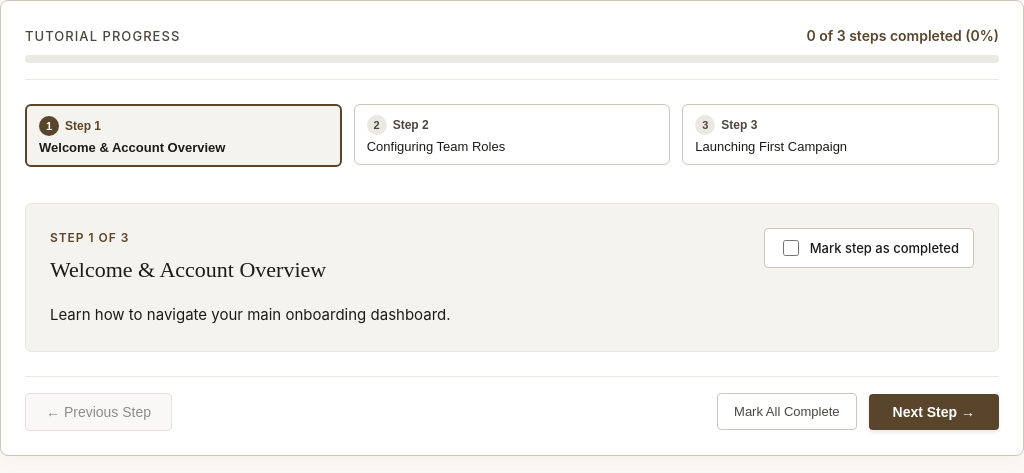
Test: TutorialStepper Component › allows direct step jumping when allowJumpToStep is true
This screenshot has width=1024, height=473.
Click the tab with test id "step-nav-item-2".
click(771, 147)  # box [682, 104, 999, 165]
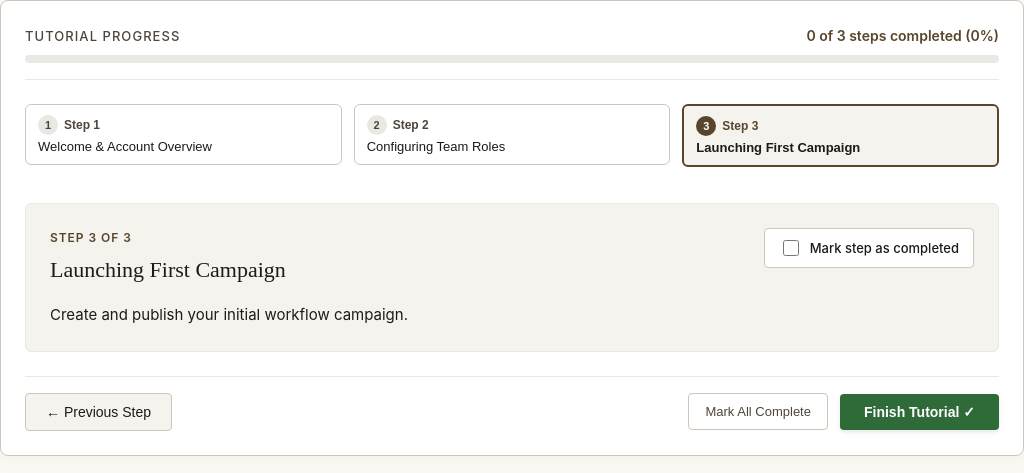
Now the heading with test id "current-step-title" reads "Launching First Campaign", box [50, 257, 286, 282]
